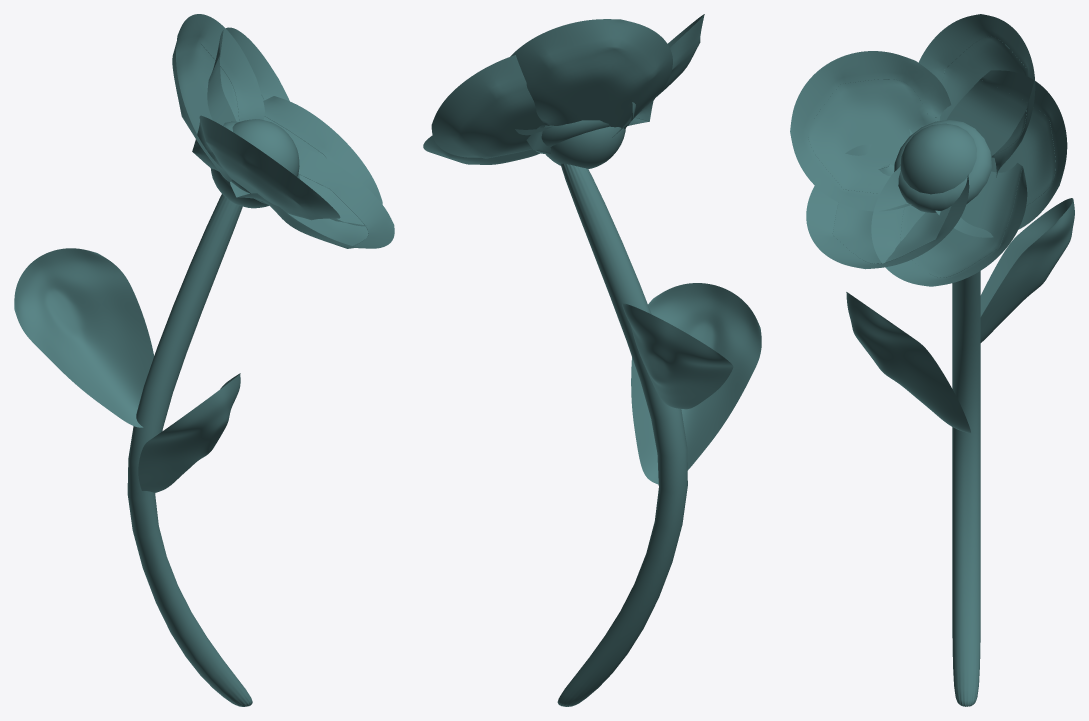
The model's file is flower.fbx.
The picture shows the model from 3 angles, left to right: view 1: azimuth 30°, elevation 25°; view 2: azimuth 150°, elevation 25°; view 3: azimuth 270°, elevation 25°; orthographic projection. The views are drawn at different scales.
Visible parts, largest first — view 1: pDisc9; view 2: pDisc9; view 3: pDisc9.
Part boxes in pixels (<box>): pDisc9: <box>14,14,394,706</box>; pDisc9: <box>423,14,761,706</box>; pDisc9: <box>790,14,1074,706</box>.
Bounding box in the file's own units: 1.18 × 2.41 × 0.9365.
